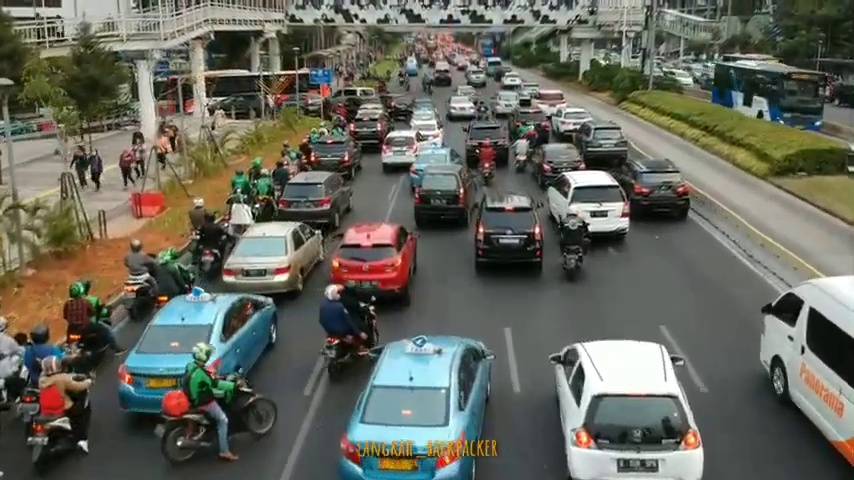car: (346, 333, 493, 480), (553, 336, 697, 480), (122, 289, 279, 416), (757, 269, 854, 472), (711, 52, 822, 140), (224, 218, 323, 299), (333, 225, 419, 306), (472, 189, 544, 275), (546, 171, 631, 240), (618, 158, 690, 224), (413, 164, 479, 233), (281, 170, 352, 230), (576, 121, 628, 168), (535, 141, 584, 187), (466, 118, 509, 167), (311, 135, 362, 176), (352, 111, 391, 157), (382, 130, 423, 171), (510, 108, 551, 147), (550, 104, 594, 140), (448, 96, 475, 122), (434, 68, 453, 89), (469, 67, 487, 87), (502, 72, 522, 88)
motorbike: (157, 342, 281, 466), (25, 361, 88, 467), (320, 283, 381, 374), (18, 323, 65, 430), (64, 279, 114, 365), (123, 237, 157, 318), (157, 250, 194, 307), (202, 211, 231, 279), (562, 206, 587, 281), (189, 197, 211, 261), (255, 168, 276, 218), (480, 140, 497, 184), (491, 92, 518, 117)
